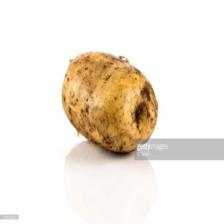Diseased-fungal potato: (60, 49, 160, 156)
